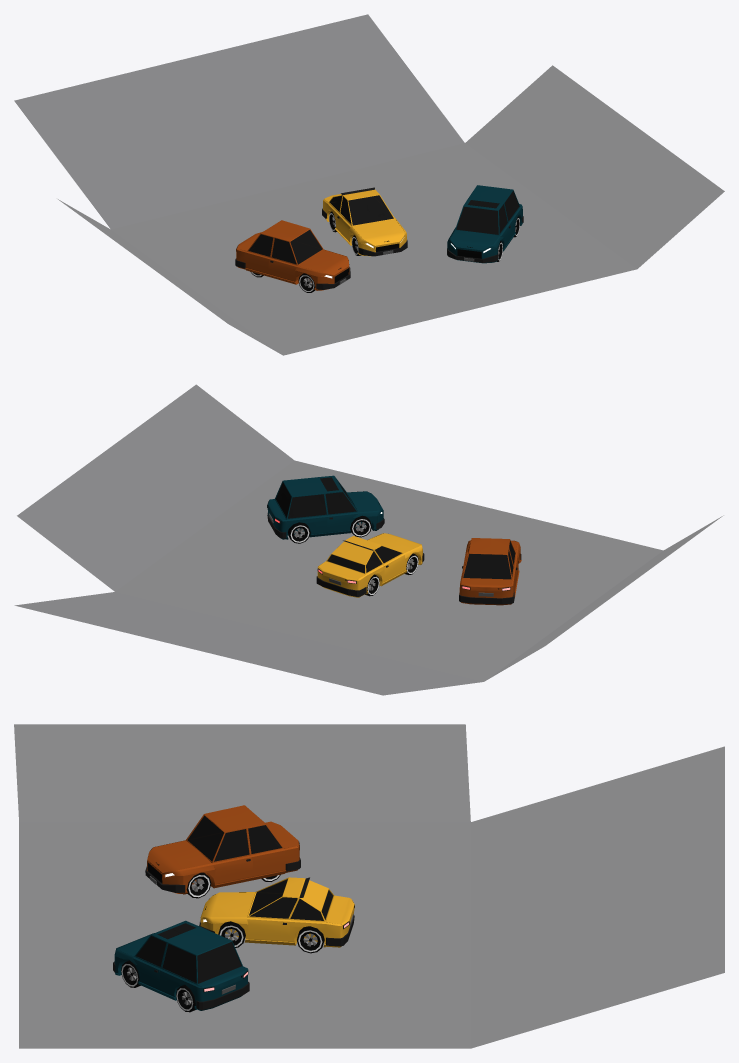
Rendered from cars.glb.
The picture shows the model from 3 angles, top to bottom: view 1: azimuth 30°, elevation 25°; view 2: azimuth 150°, elevation 25°; view 3: azimuth 270°, elevation 25°; orthographic projection. The views are drawn at different scales.
Visible parts, largest first — view 1: Plane_6, car.001_8, car_14, car.002_0, windows_9, windows.001_15, windows.002_1; view 2: Plane_6, car_14, car.002_0, car.001_8, windows.001_15, windows_9, windows.002_1, wheels.001_17; view 3: Plane_6, car.001_8, car.002_0, car_14, windows.001_15, windows_9, windows.002_1, Cylinder.002_3, wheels.001_17, wheels_11.
Boxes of the visible parts, bbox=[...] form: Plane_6: bbox=[14, 14, 724, 355]; car.001_8: bbox=[235, 220, 350, 290]; car_14: bbox=[447, 185, 523, 263]; car.002_0: bbox=[322, 187, 407, 256]; windows_9: bbox=[248, 230, 322, 264]; windows.001_15: bbox=[456, 191, 519, 234]; windows.002_1: bbox=[329, 195, 393, 225]; Plane_6: bbox=[15, 384, 722, 695]; car_14: bbox=[267, 475, 384, 539]; car.002_0: bbox=[316, 533, 424, 597]; car.001_8: bbox=[459, 538, 521, 605]; windows.001_15: bbox=[276, 482, 356, 518]; windows_9: bbox=[463, 541, 515, 579]; windows.002_1: bbox=[327, 546, 401, 573]; wheels.001_17: bbox=[288, 515, 371, 543]; Plane_6: bbox=[14, 724, 724, 1048]; car.001_8: bbox=[145, 805, 300, 894]; car.002_0: bbox=[199, 877, 354, 947]; car_14: bbox=[113, 920, 249, 1010]; windows.001_15: bbox=[136, 936, 241, 983]; windows_9: bbox=[187, 815, 282, 861]; windows.002_1: bbox=[249, 879, 333, 920]; Cylinder.002_3: bbox=[218, 921, 324, 953]; wheels.001_17: bbox=[121, 960, 195, 1012]; wheels_11: bbox=[186, 872, 280, 898].
Size of the model in its own units: 113 by 12.42 by 106.
